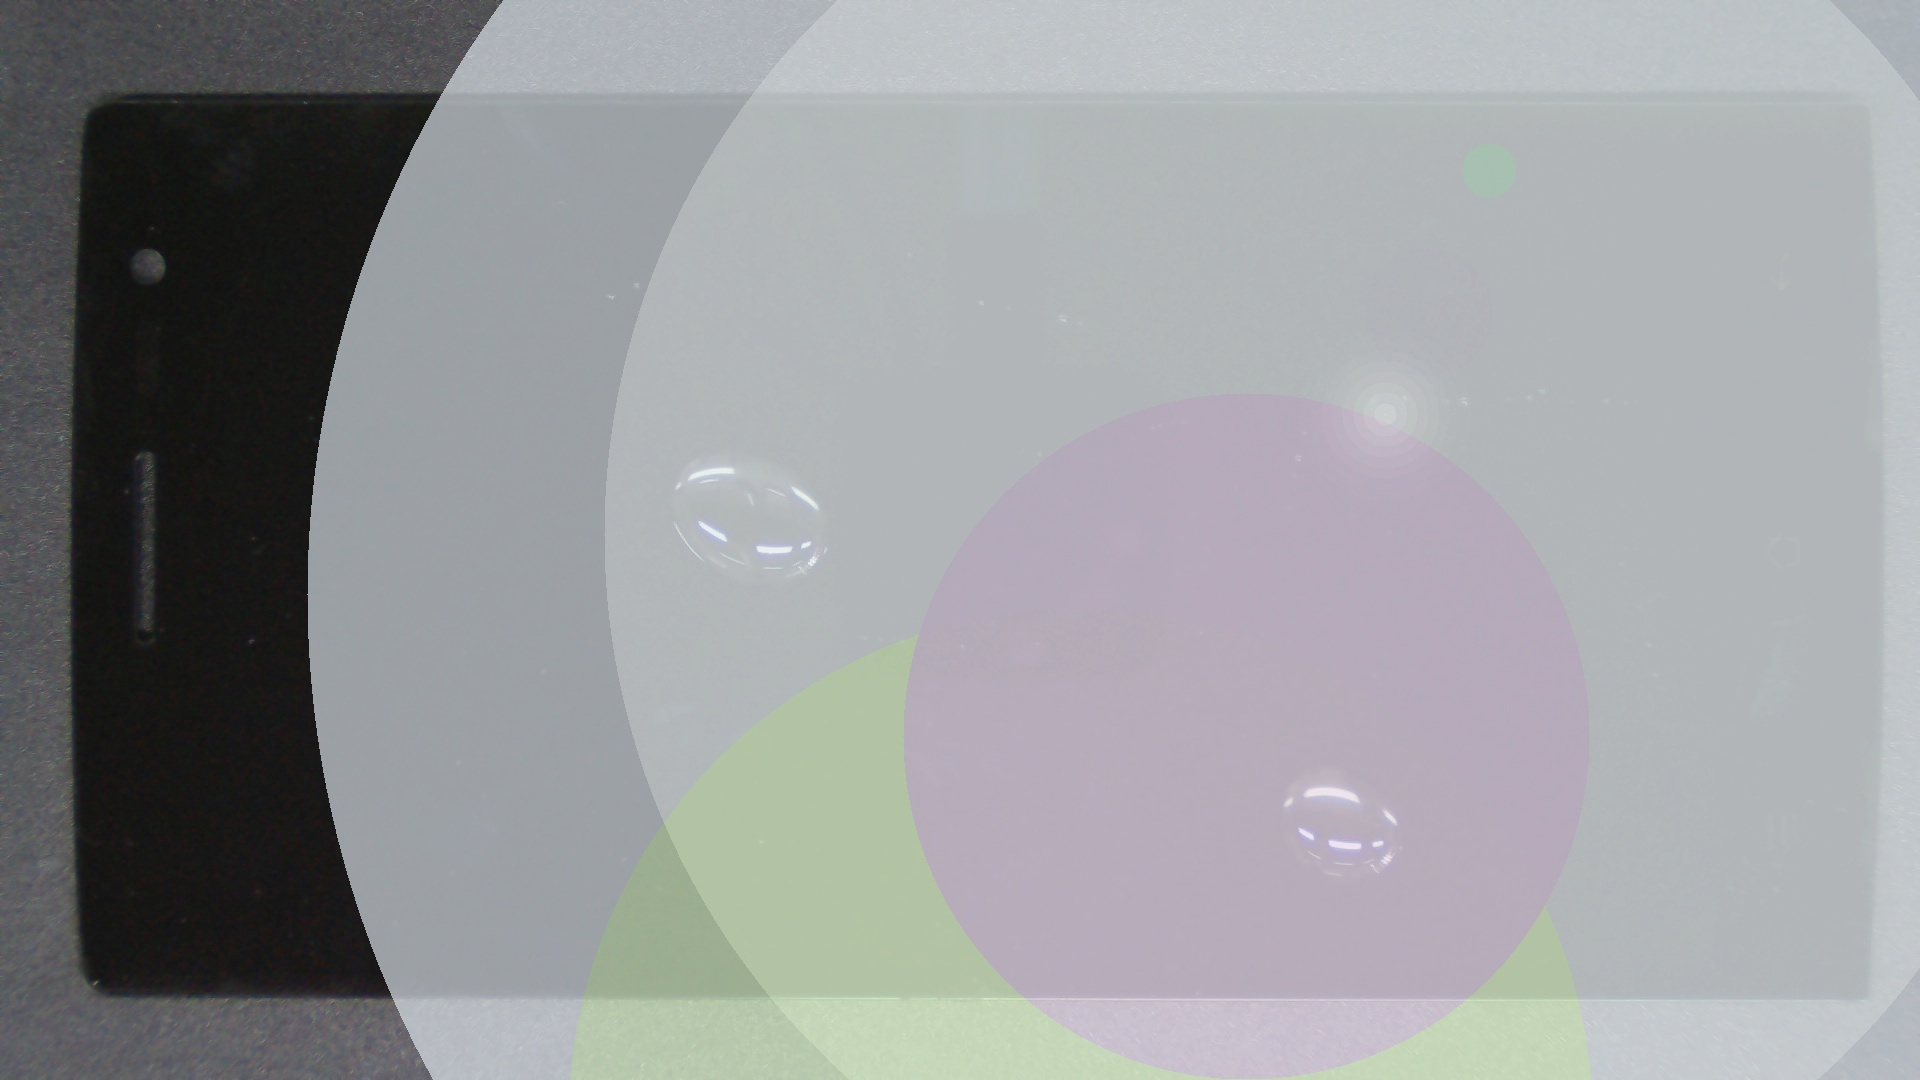oil: (661, 384, 1920, 1080), (363, 225, 1087, 679)
